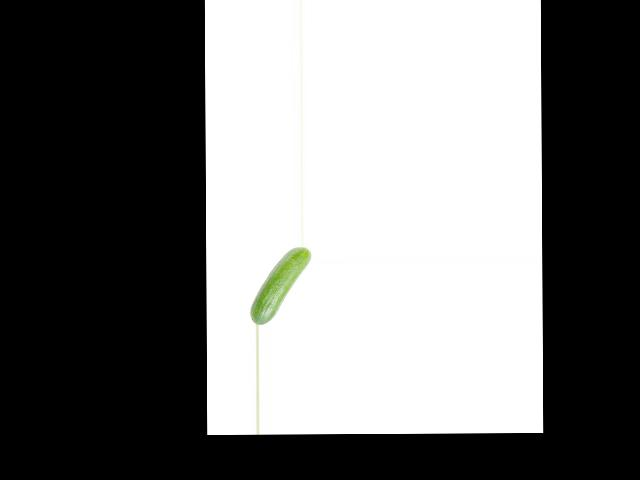cucumber: (249, 246, 311, 325)
